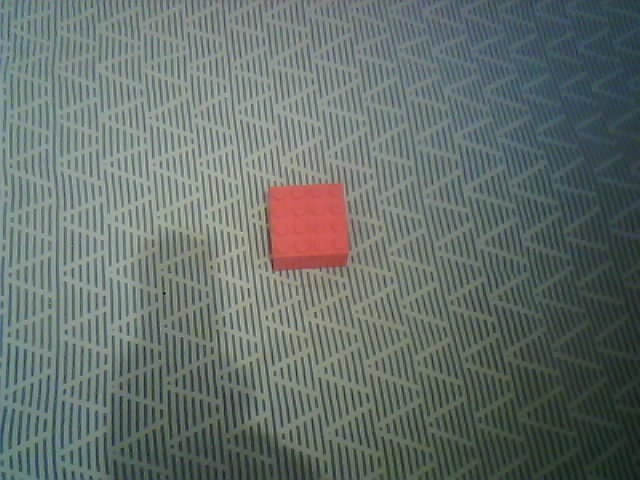lego: (264, 181, 350, 272)
